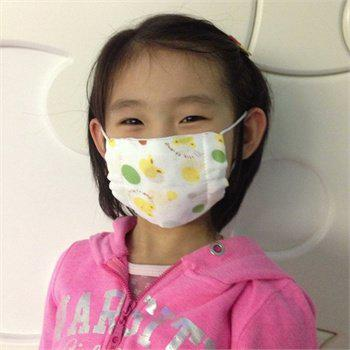OK: (104, 95, 230, 221)
